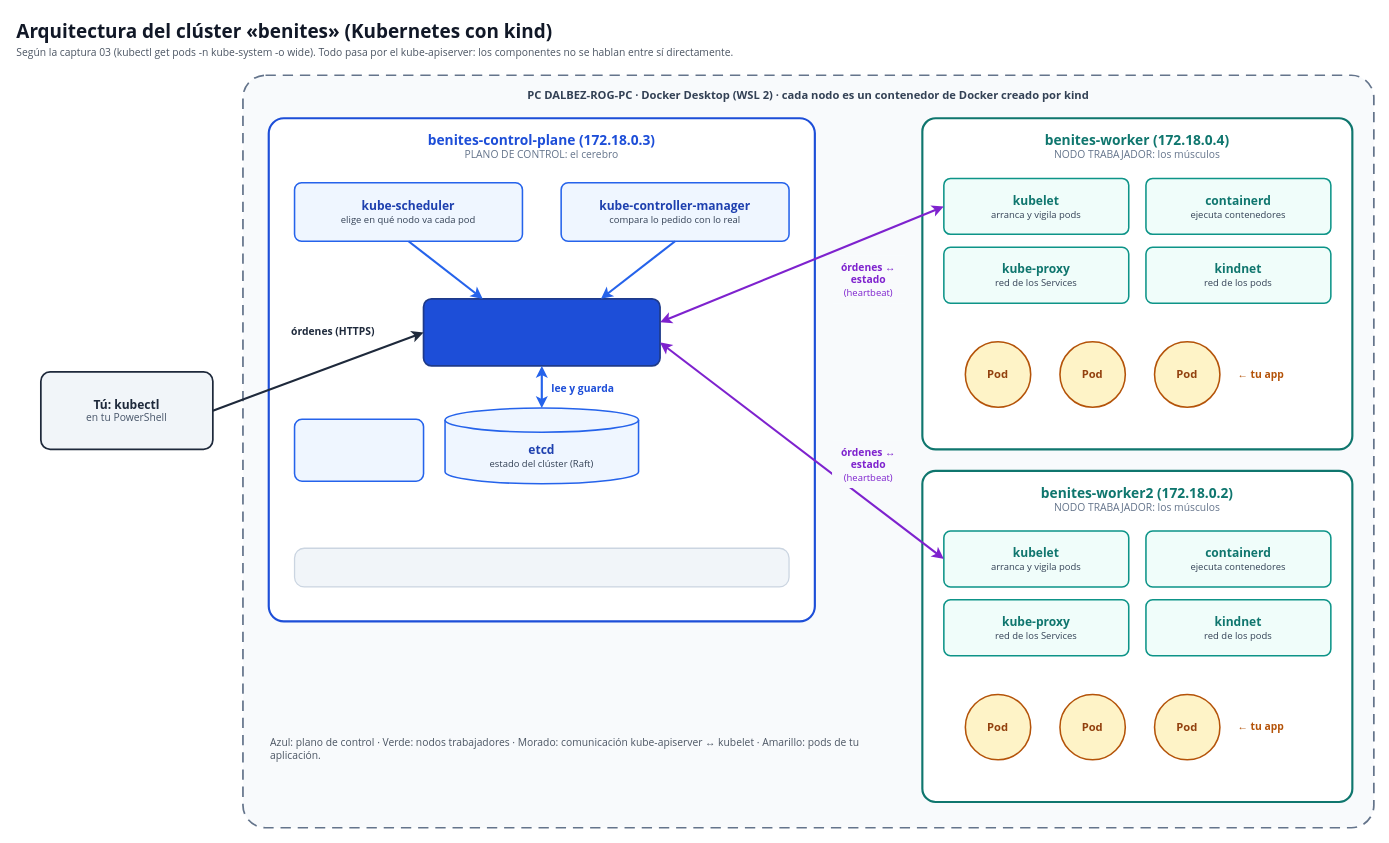
Image size: 1389x843. Some labels were removed from this diagram. The centre of each missing label's shape, as x and y in pixels:
"coredns ×2 DNS interno" belongs at pixel 358 450.
"kube-apiserver la puerta de entrada" belongs at pixel 541 332.
"también en este nodo: kubelet · containerd · kube-proxy · kindnet" belongs at pixel 541 567.
